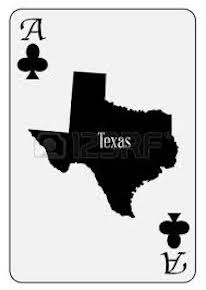AceOfClubs: (7, 3, 200, 285)
